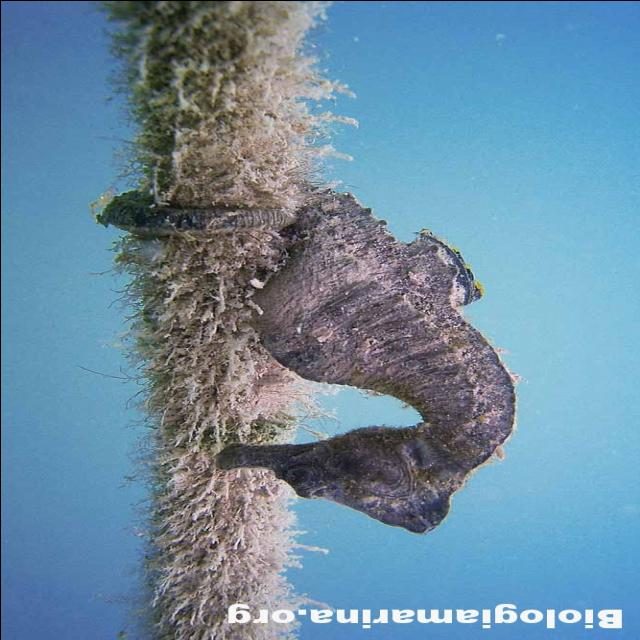Hippo: (205, 416, 452, 538)
